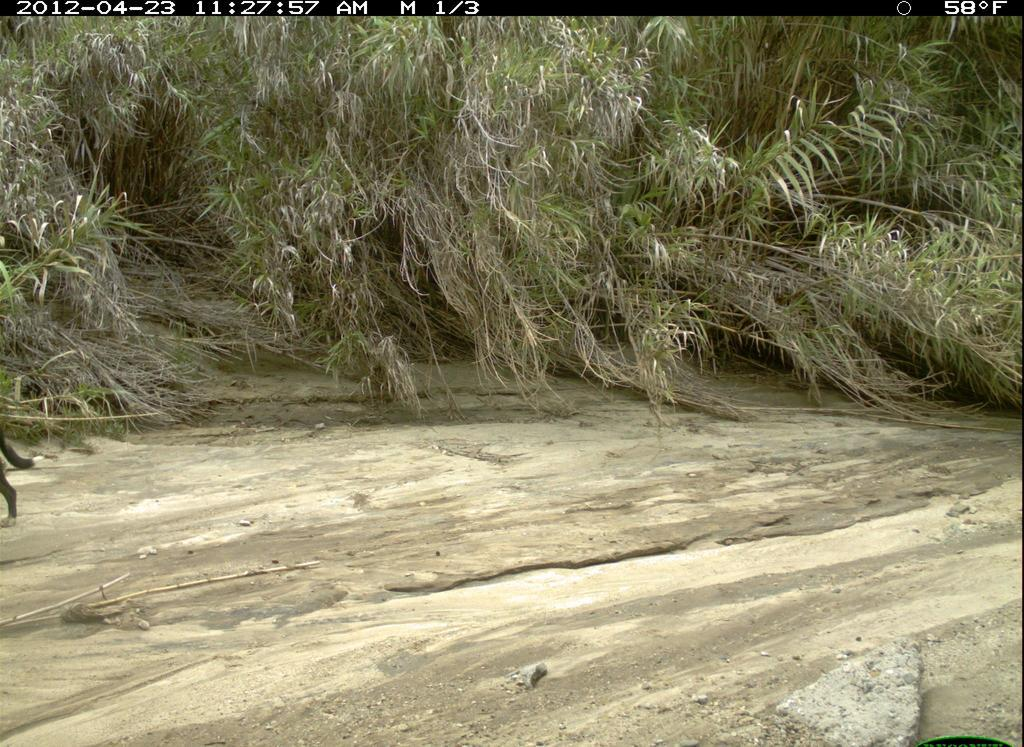dog: (1, 424, 53, 525)
